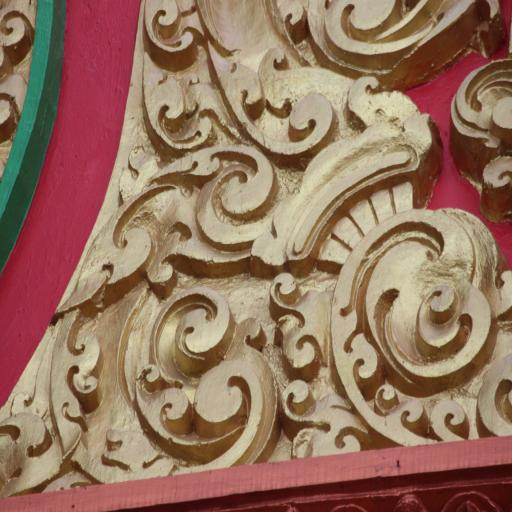la: (52, 281, 282, 484), (332, 200, 512, 443), (53, 144, 291, 308), (204, 36, 338, 156), (0, 325, 57, 502), (139, 53, 214, 153), (283, 376, 369, 457), (280, 282, 332, 373), (138, 0, 200, 67)
